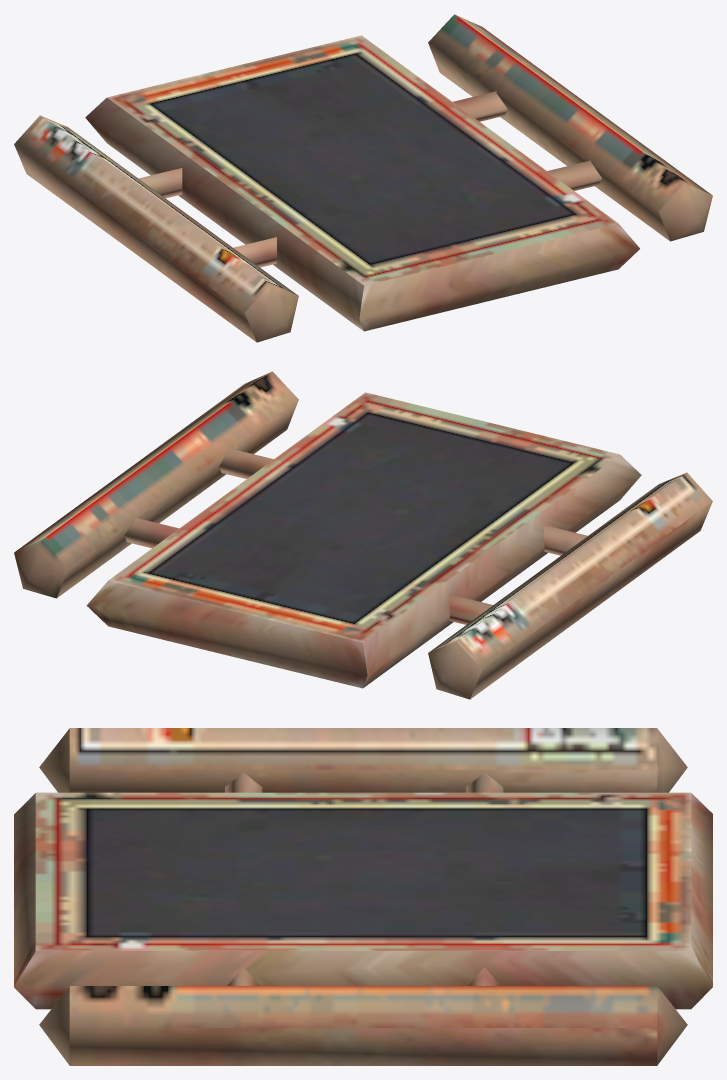
Rendered from eqp_tool_handheld_viewscreen_s1_l0.fbx.
3 renders of one model, top to bottom at view 1: azimuth 30°, elevation 25°; view 2: azimuth 150°, elevation 25°; view 3: azimuth 270°, elevation 25°, orthographic. The views are drawn at different scales.
Visible parts, largest first — view 1: mesh_node; view 2: mesh_node; view 3: mesh_node.
Boxes of the visible parts, x1,y1,x2,y2 form: mesh_node: (14, 14, 712, 342); mesh_node: (14, 371, 712, 699); mesh_node: (14, 728, 712, 1065).
Size of the model in its own units: 0.2371 by 0.0277 by 0.2404.
